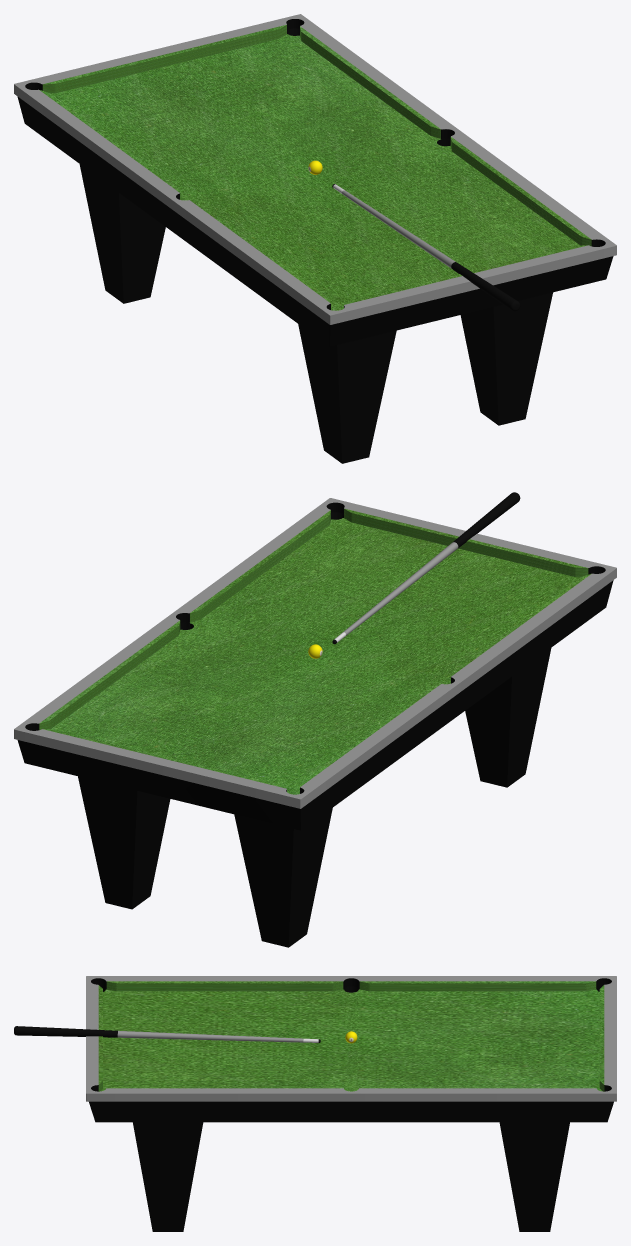
File: pool.fbx
3 views of the same model, one above another, from view 1: azimuth 30°, elevation 25°; view 2: azimuth 150°, elevation 25°; view 3: azimuth 270°, elevation 25° (orthographic). The views are drawn at different scales.
Visible parts, largest first — view 1: pool_table, pool_cue; view 2: pool_table, pool_cue; view 3: pool_table, pool_cue.
Part boxes in pixels (x1,y1,x2,y2): pool_table: (14,14,616,463); pool_cue: (332,184,520,311); pool_table: (14,498,616,947); pool_cue: (332,492,520,644); pool_table: (86,976,616,1231); pool_cue: (14,1026,320,1042).
Size of what is drawn, in the model's own units: 13.13 by 8.74 by 28.46.
11 materials, 2 textured.
